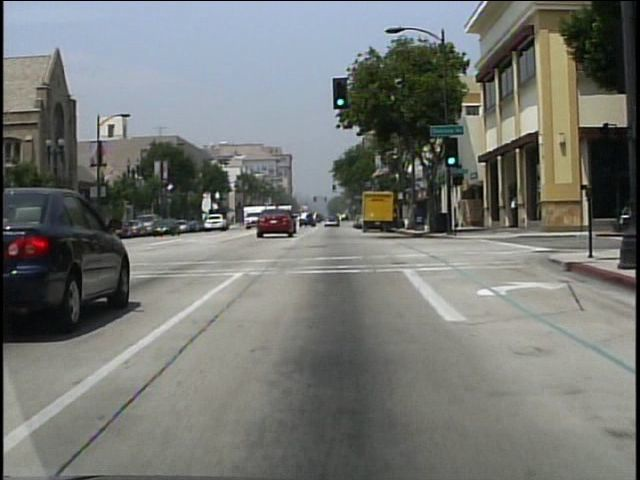person: (509, 195, 516, 229)
